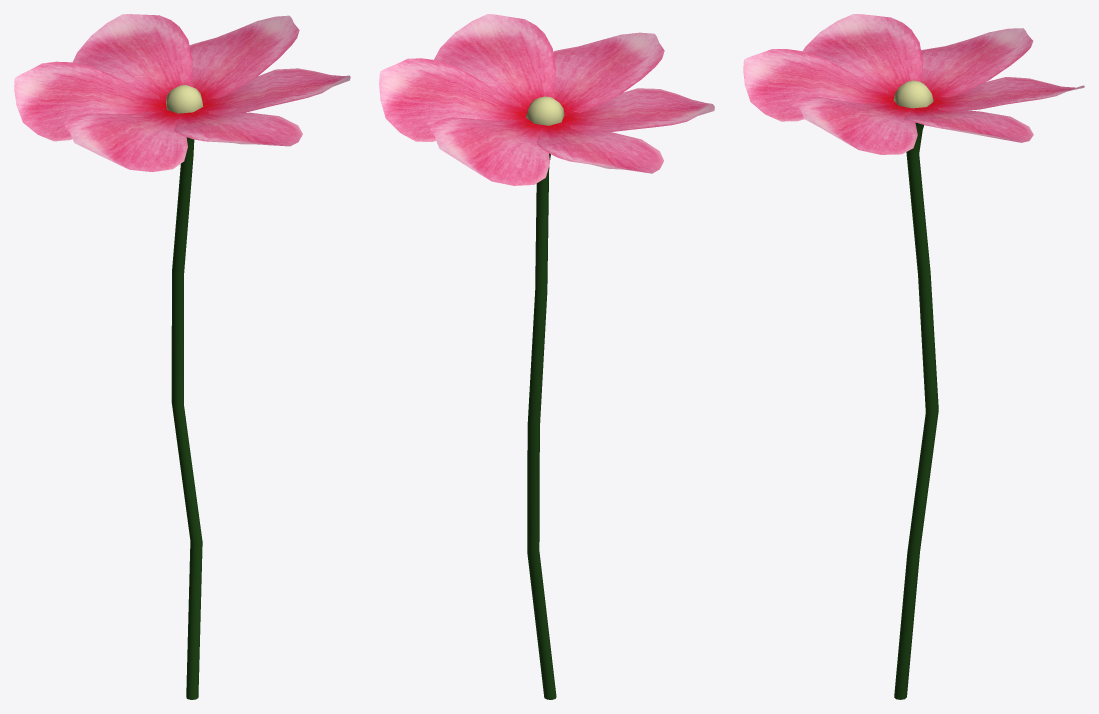
The model's file is PinkFlower.fbx.
3 renders of one model, left to right at view 1: azimuth 30°, elevation 25°; view 2: azimuth 150°, elevation 25°; view 3: azimuth 270°, elevation 25°, orthographic.
Parts seen in each view (by area): view 1: PinkFlower, PinkFlower.005, PinkFlower.004, PinkFlower.006, PinkFlower.003, PinkFlower.002, PinkFlower.001; view 2: PinkFlower, PinkFlower.003, PinkFlower.002, PinkFlower.001, PinkFlower.004, PinkFlower.006, PinkFlower.005; view 3: PinkFlower, PinkFlower.001, PinkFlower.006, PinkFlower.005, PinkFlower.002, PinkFlower.004, PinkFlower.003.
Part boxes in pixels (x1,y1,x2,y2): PinkFlower: (166, 85, 203, 699); PinkFlower.005: (14, 61, 166, 141); PinkFlower.004: (72, 14, 192, 100); PinkFlower.006: (64, 107, 187, 171); PinkFlower.003: (189, 15, 299, 102); PinkFlower.002: (196, 68, 350, 114); PinkFlower.001: (174, 110, 302, 146); PinkFlower: (526, 96, 564, 699); PinkFlower.003: (379, 58, 527, 141); PinkFlower.002: (434, 14, 555, 109); PinkFlower.001: (553, 32, 664, 116); PinkFlower.004: (430, 117, 549, 185); PinkFlower.006: (557, 88, 714, 131); PinkFlower.005: (537, 124, 663, 173); PinkFlower: (893, 80, 938, 699); PinkFlower.001: (743, 49, 894, 121); PinkFlower.006: (802, 14, 922, 95); PinkFlower.005: (921, 28, 1033, 100); PinkFlower.002: (795, 96, 917, 154); PinkFlower.004: (926, 77, 1084, 111); PinkFlower.003: (904, 106, 1033, 142).
Size of the model in its own units: 9.32 by 19.04 by 8.78.
